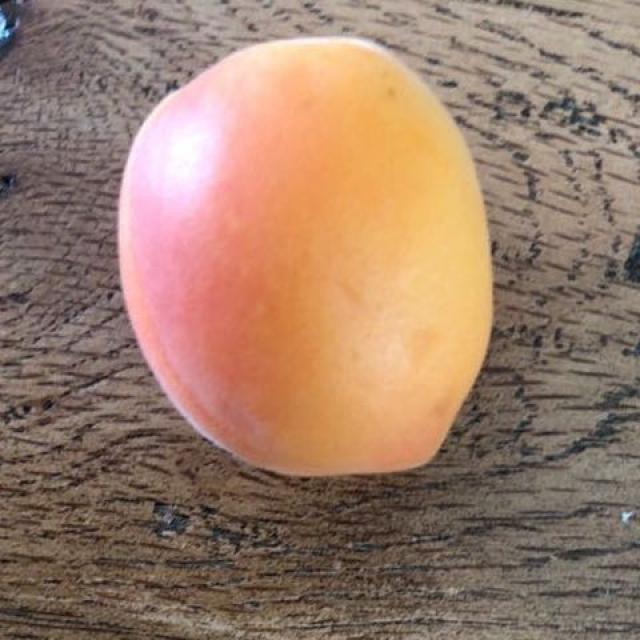apricots: (165, 43, 493, 469)
